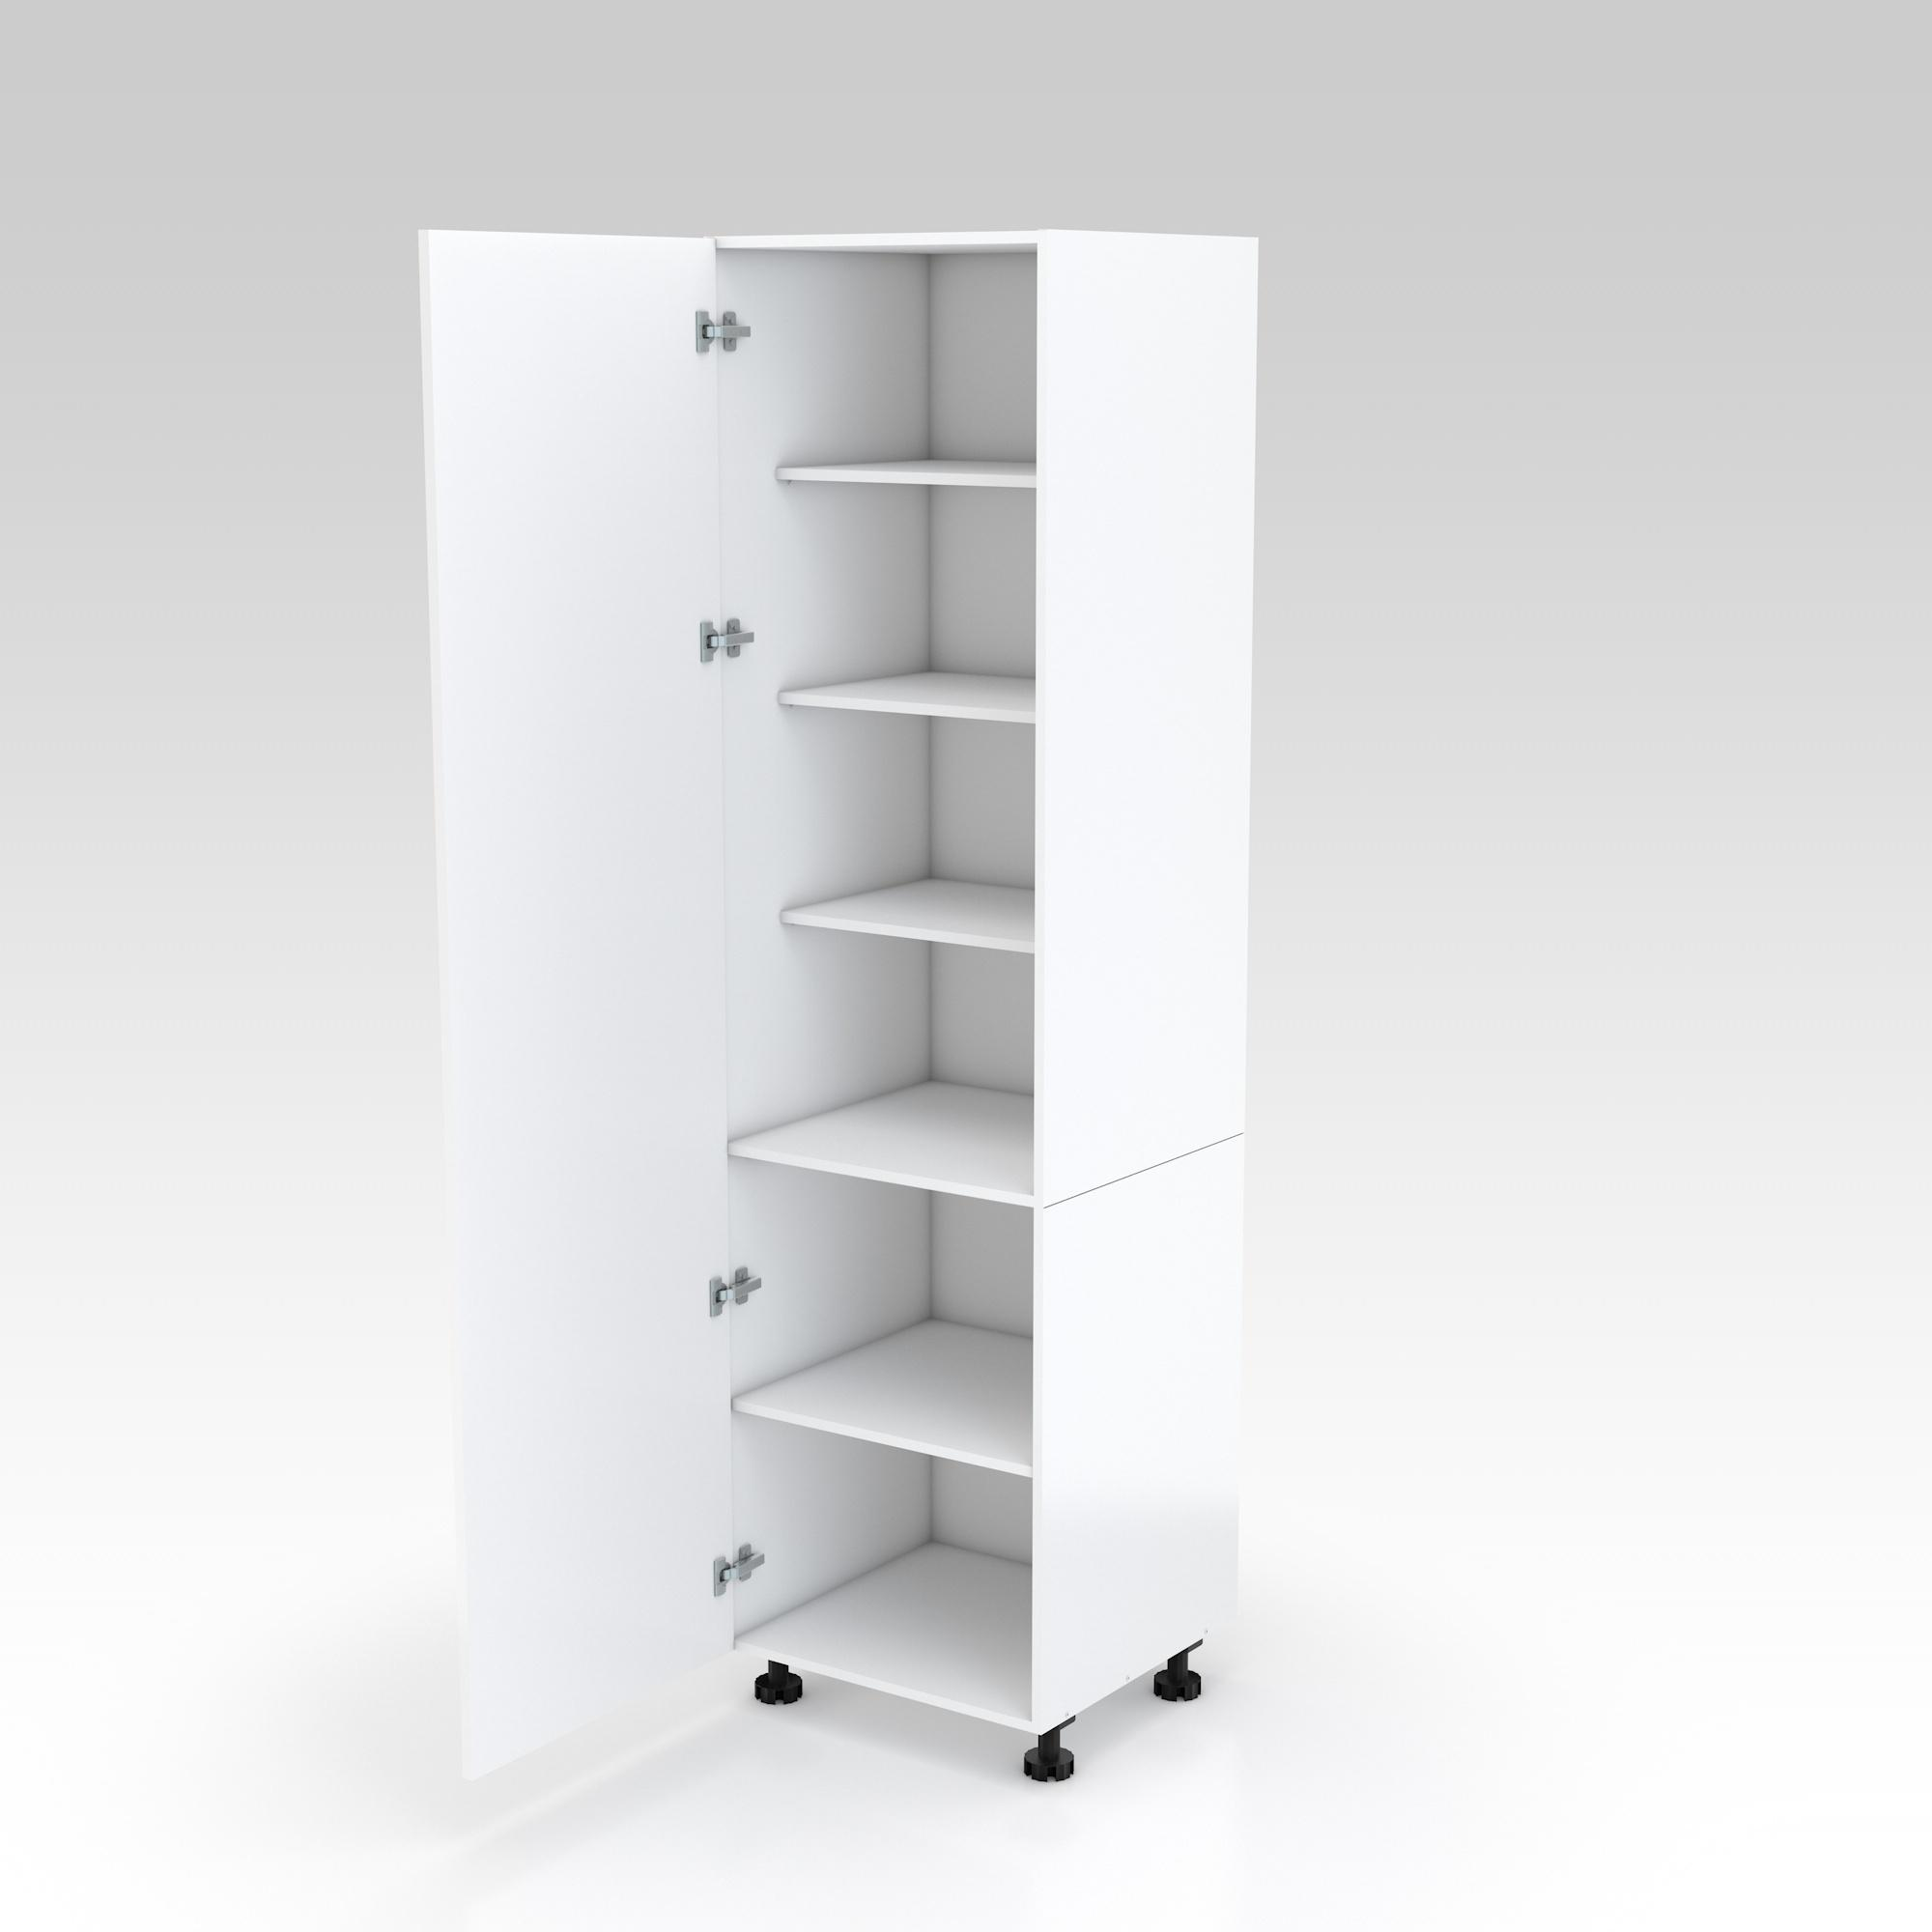cabinet_door: (439, 249, 724, 1750)
